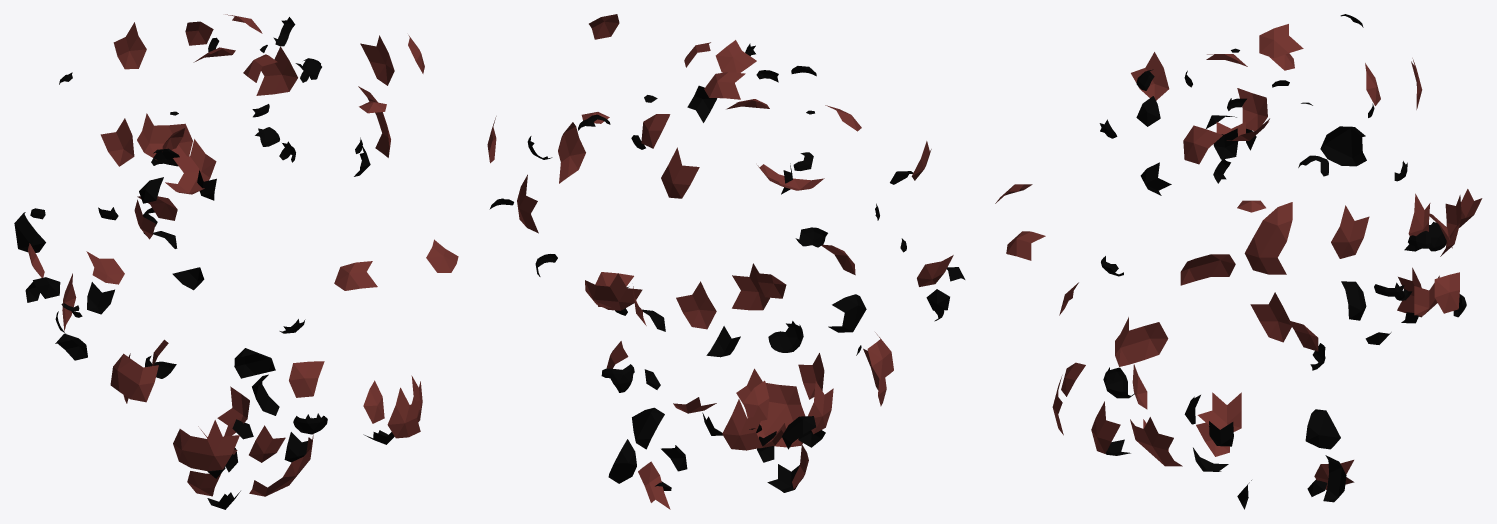
File: explode.f0010.glb
3 renders of one model, left to right at view 1: azimuth 30°, elevation 25°; view 2: azimuth 150°, elevation 25°; view 3: azimuth 270°, elevation 25°, orthographic. The views are drawn at different scales.
Parts seen in each view (by area): view 1: Body.001; view 2: Body.001; view 3: Body.001.
Boxes of the visible parts, x1,y1,x2,y2 form: Body.001: (14, 14, 458, 509); Body.001: (487, 14, 965, 509); Body.001: (995, 14, 1482, 509).
Size of the model in its own units: 8.2 by 8.7 by 8.24.
1 material, 1 textured.
